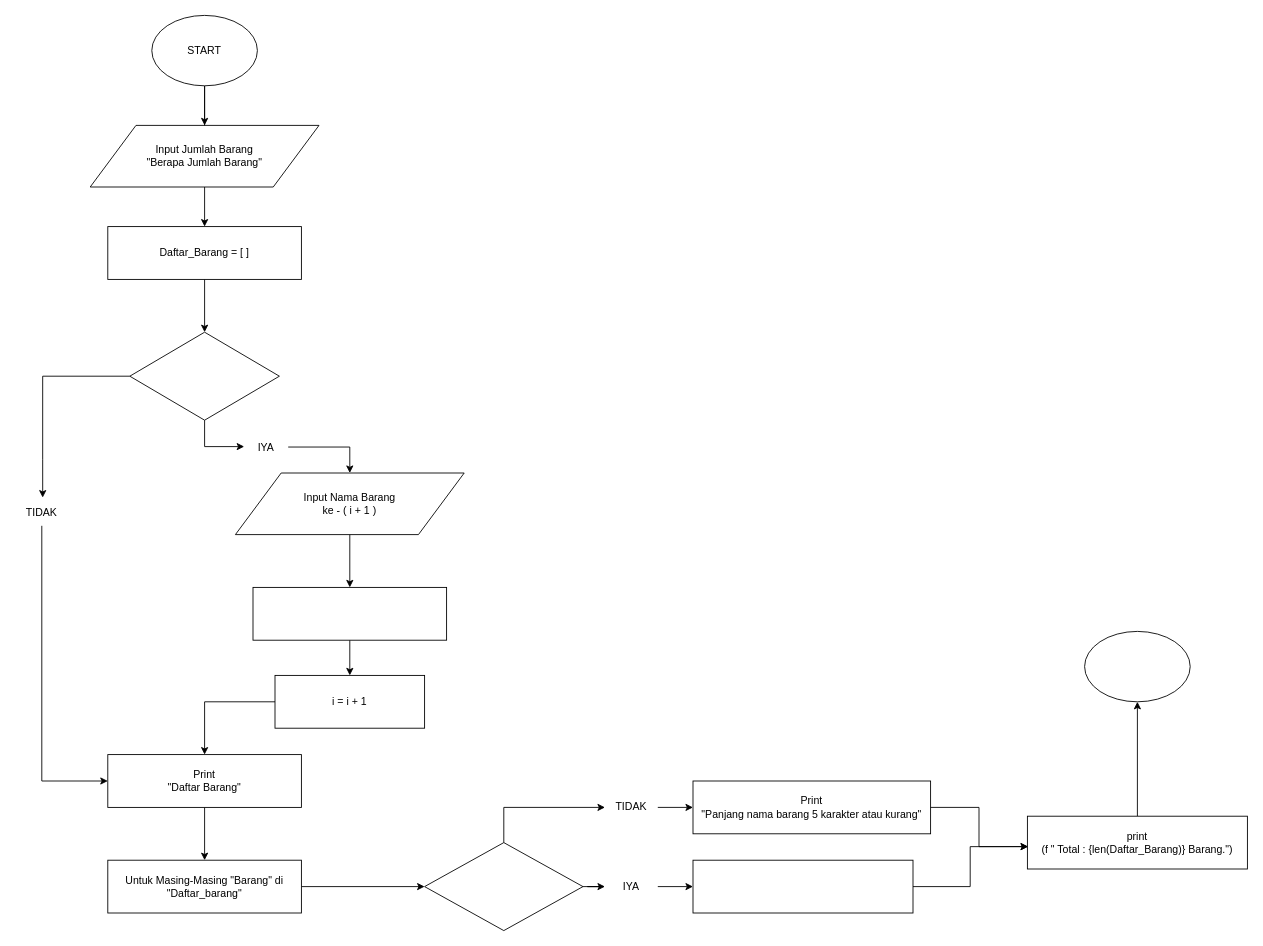
This 1263x946 diagram has some shape labels left out. The box of each missing label's shape, as (x1, y1, x2, y2) in pixels:
Daftar_Barang Ditambahkan (Barang): (252, 587, 447, 640)
i < Jumlah ?: (129, 331, 279, 420)
Jika len(Barang) > 5 ?: (424, 842, 583, 931)
Print "Panjang nama barang lebih dari 5 karakter": (692, 859, 913, 913)
SELESAI: (1084, 631, 1190, 702)
